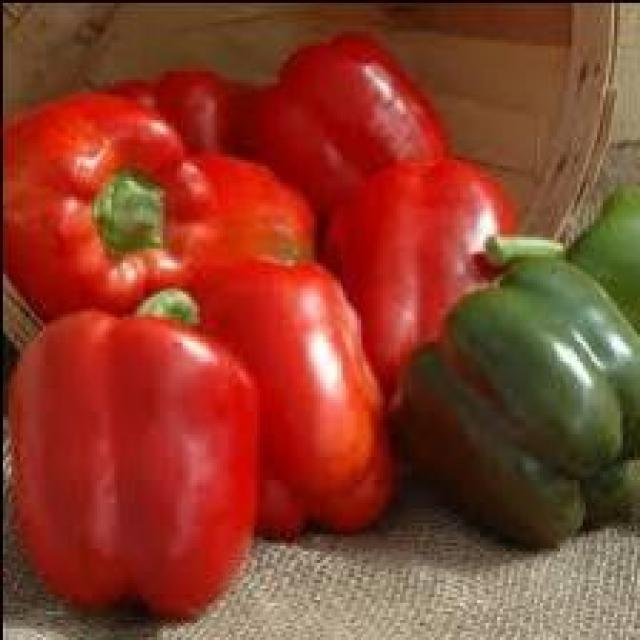Pepper: (183, 157, 397, 540), (9, 309, 263, 626), (389, 240, 640, 551), (320, 154, 520, 414), (6, 94, 211, 323)
